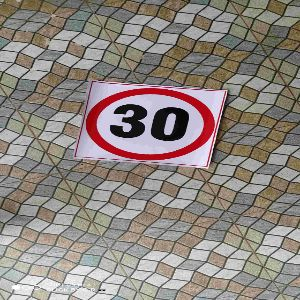speedlimit30: (86, 81, 220, 161)
